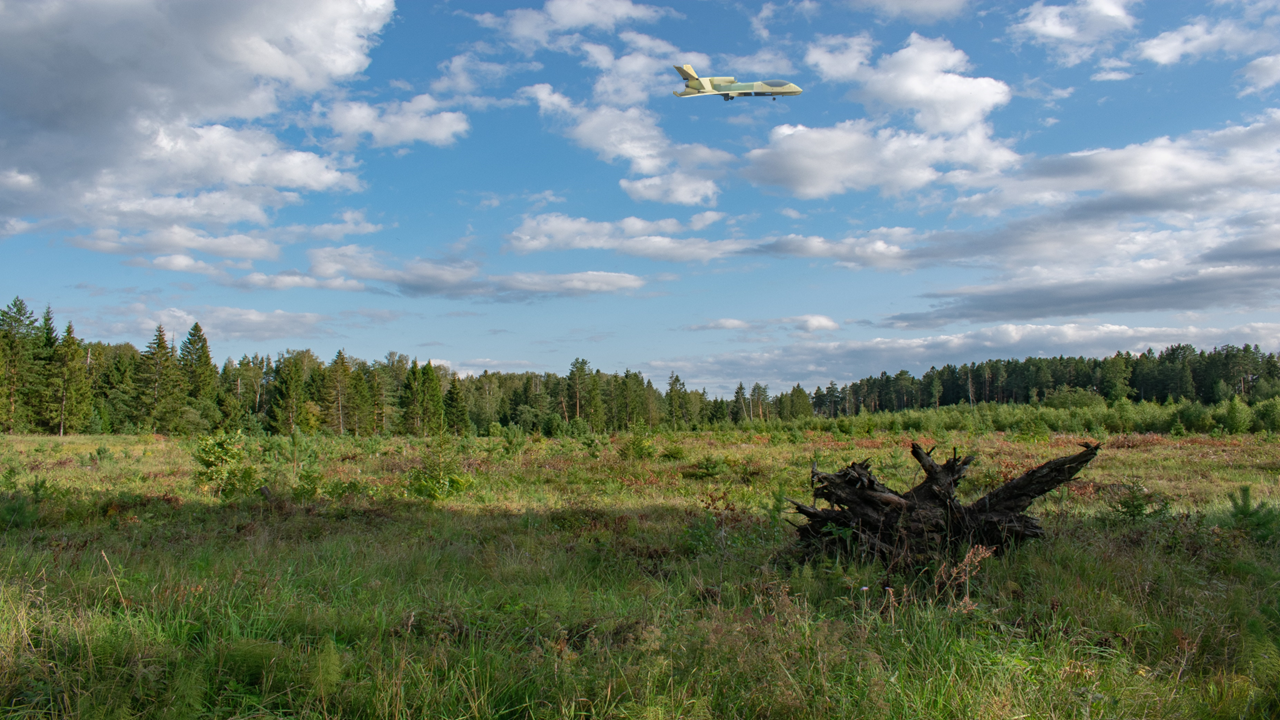military drone: (672, 64, 802, 101)
